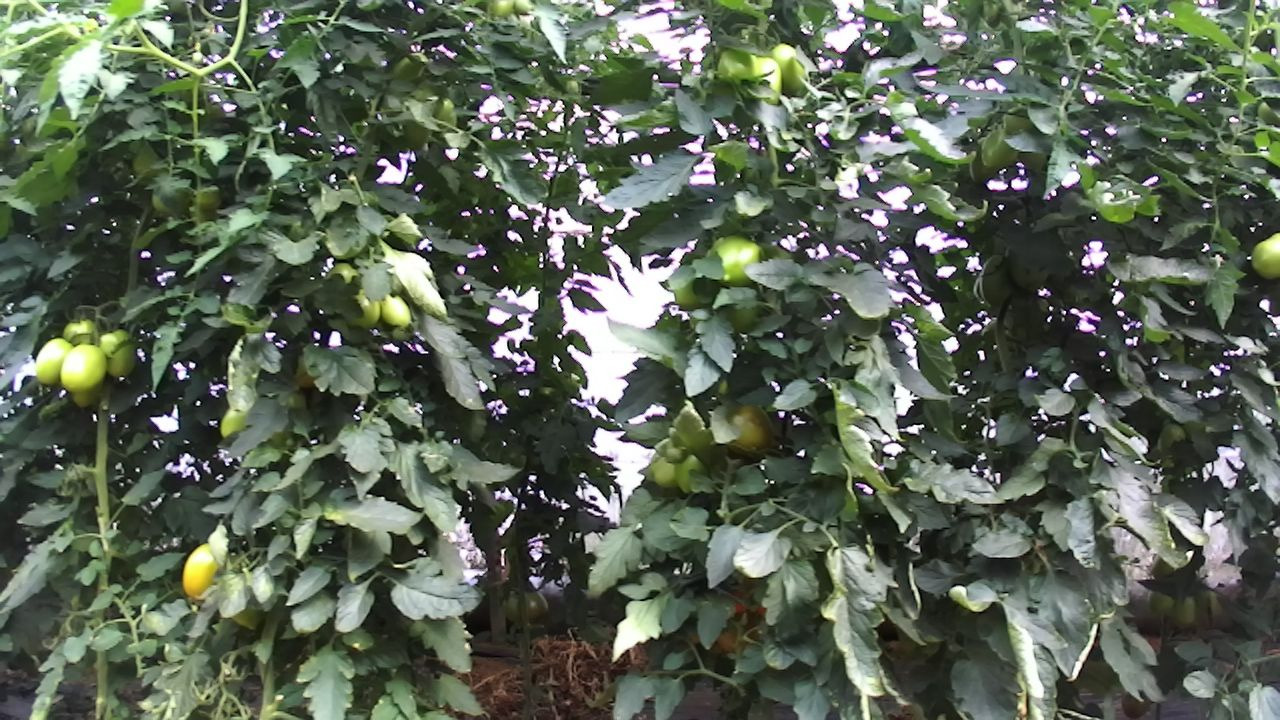tomato: (178, 538, 224, 602), (57, 341, 110, 394), (33, 336, 76, 388), (98, 329, 139, 381), (977, 126, 1023, 169), (1248, 230, 1280, 282)
